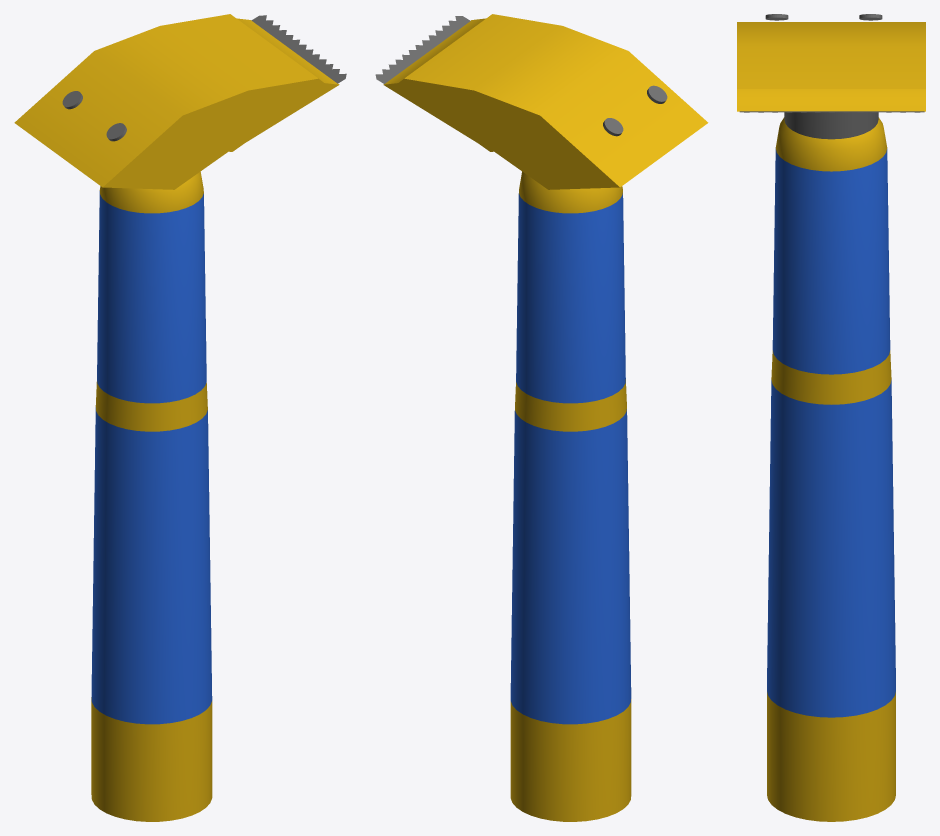
Rendered from Trimmer.fbx.
3 renders of one model, left to right at view 1: azimuth 30°, elevation 25°; view 2: azimuth 150°, elevation 25°; view 3: azimuth 270°, elevation 25°, orthographic. The views are drawn at different scales.
Visible parts, largest first — view 1: Cube.026; view 2: Cube.026; view 3: Cube.026.
Part boxes in pixels (x1,y1,x2,y2): Cube.026: (14,14,346,821); Cube.026: (375,14,708,821); Cube.026: (737,14,925,821).
Bounding box in the file's own units: 8.21 × 22.87 × 5.05.
